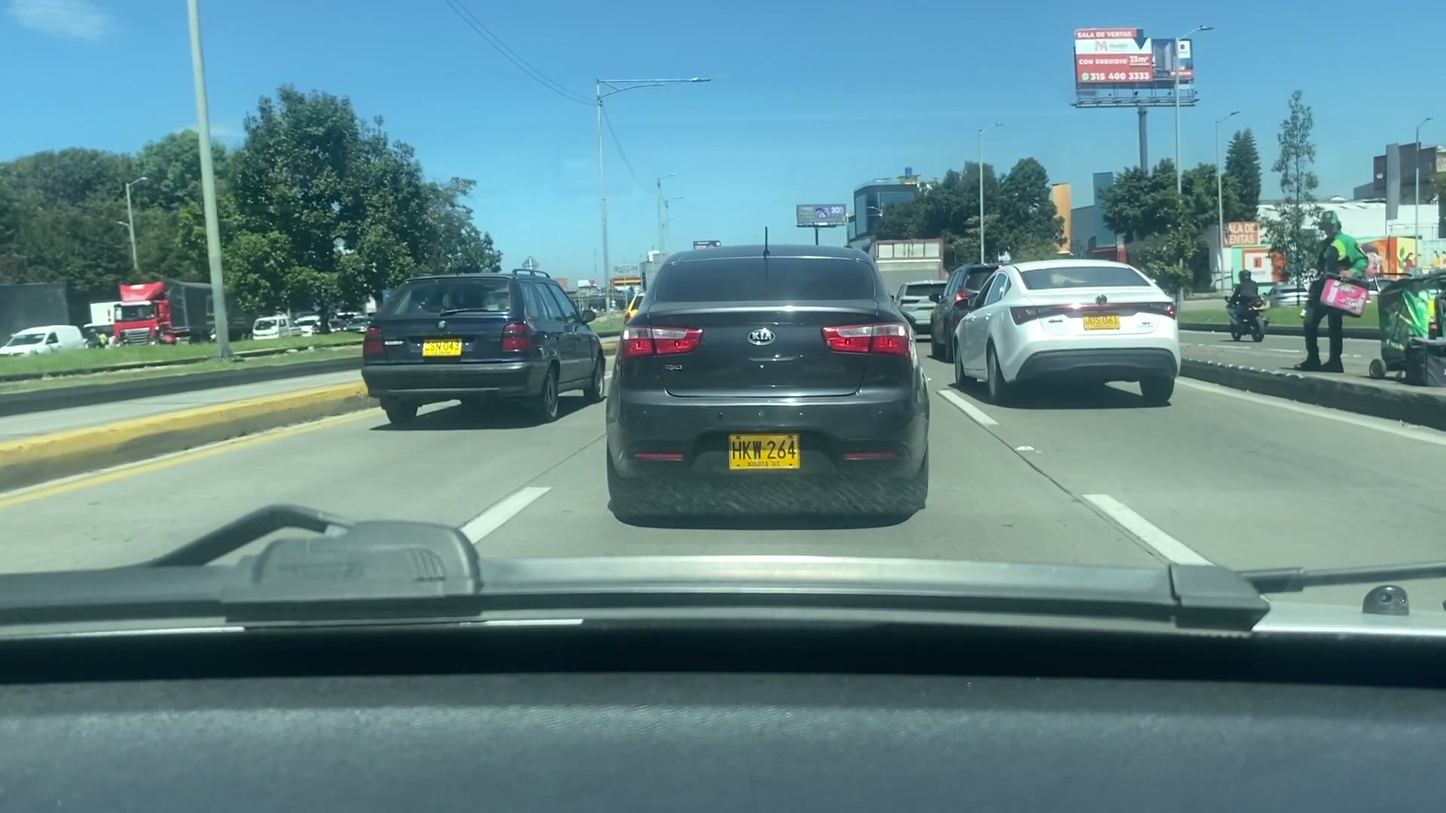bus: (0, 324, 85, 356)
car: (611, 242, 931, 524), (367, 270, 605, 423), (953, 259, 1179, 402), (926, 261, 1004, 357), (898, 280, 948, 334), (251, 317, 307, 342)
motorcycle: (1221, 297, 1277, 344)
truck: (116, 280, 244, 348), (868, 238, 939, 295)
